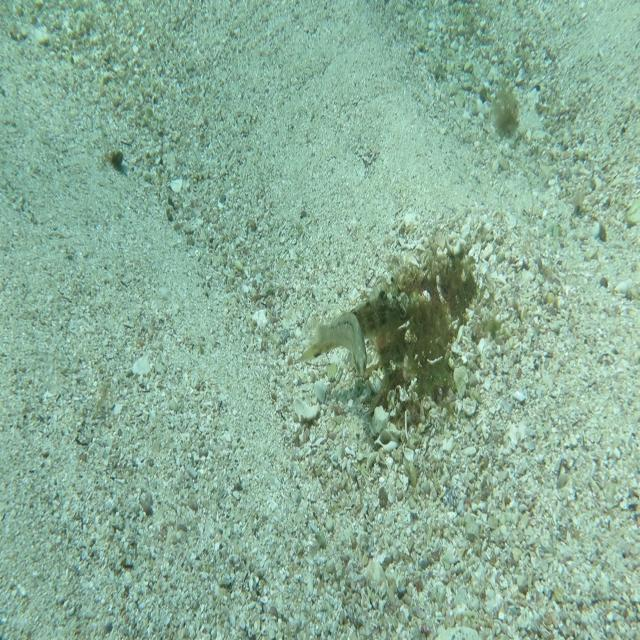ROLL: (289, 273, 419, 363)
female: (302, 304, 368, 380)
nest: (358, 231, 487, 430)
